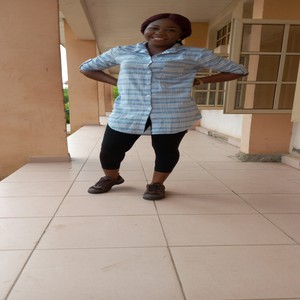Fulokoja_female_student: (101, 12, 193, 192)
